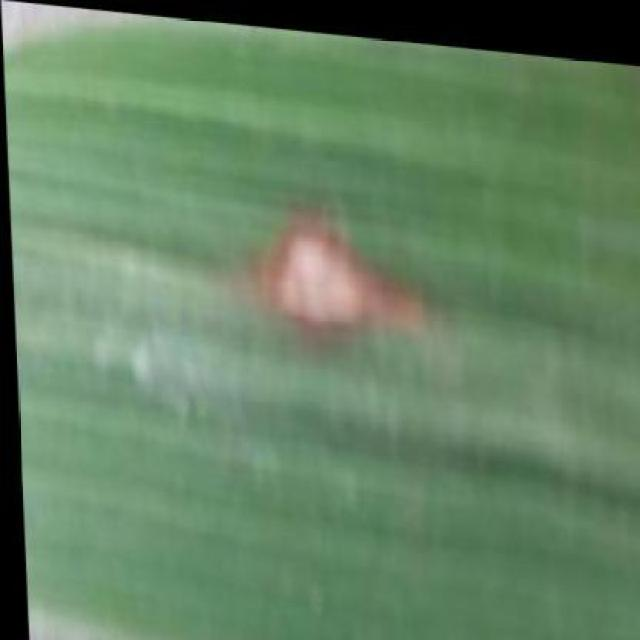Bacterial_Leaf_Blight: (198, 172, 453, 360)
